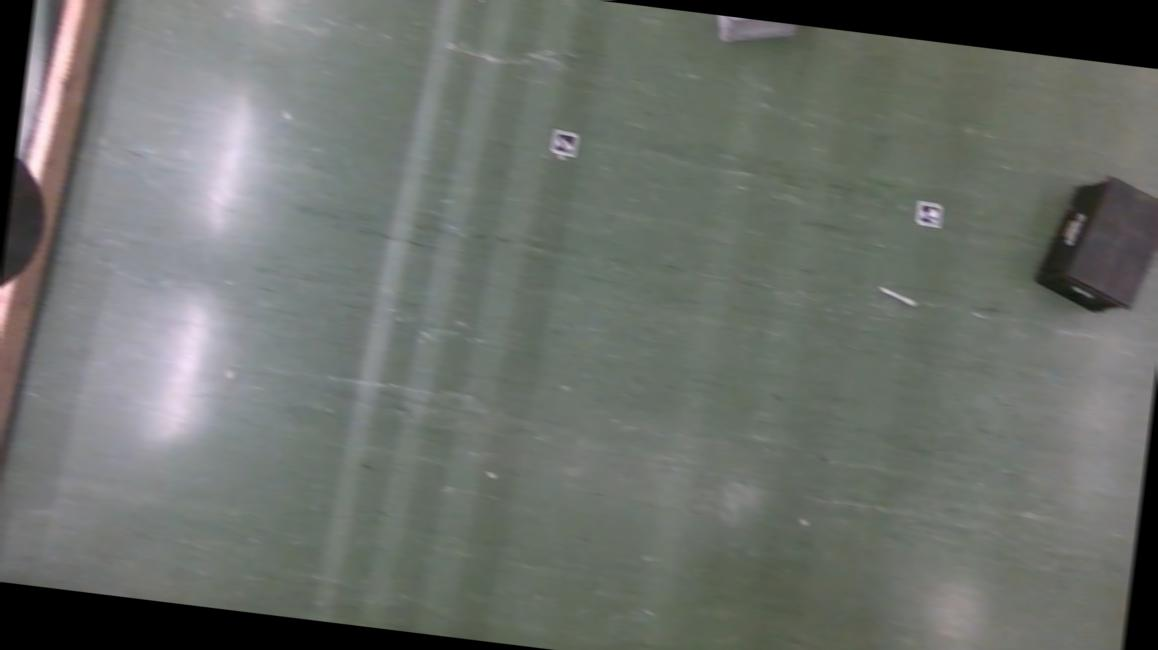probes: (878, 286, 916, 306), (476, 0, 488, 4)
rako: (1030, 170, 1158, 322), (702, 13, 806, 51)
